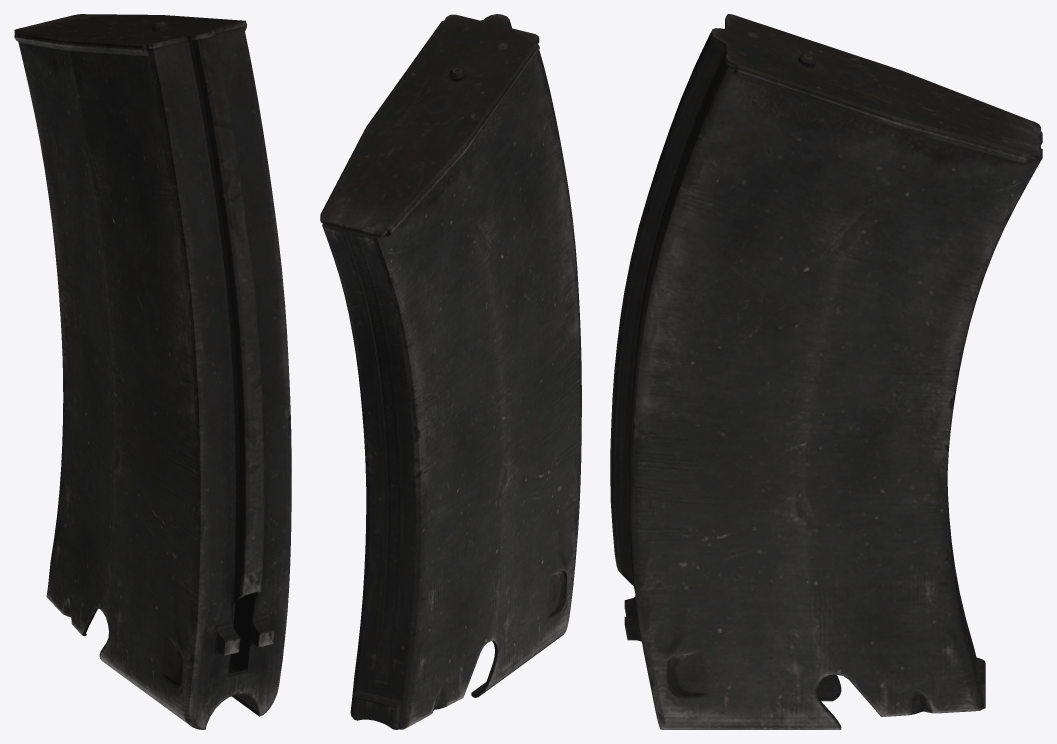
3 views of the same model, side by side, from view 1: azimuth 30°, elevation 25°; view 2: azimuth 150°, elevation 25°; view 3: azimuth 270°, elevation 25° (orthographic). The views are drawn at different scales.
Visible parts, largest first — view 1: TW_641074a07fd350b98c0b3f96_PZ_Import; view 2: TW_641074a07fd350b98c0b3f96_PZ_Import; view 3: TW_641074a07fd350b98c0b3f96_PZ_Import.
Part boxes in pixels (<box>): TW_641074a07fd350b98c0b3f96_PZ_Import: <box>14,14,291,729</box>; TW_641074a07fd350b98c0b3f96_PZ_Import: <box>320,14,581,729</box>; TW_641074a07fd350b98c0b3f96_PZ_Import: <box>610,14,1042,729</box>.
Size of the model in its own units: 0.0177 by 0.0626 by 0.1092.
Materials: 1 (1 with a texture image).
